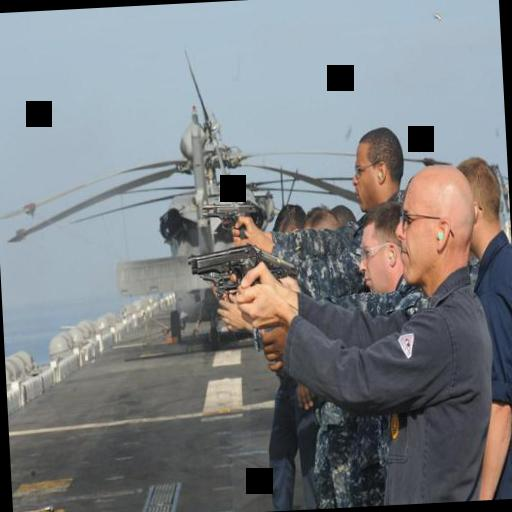Handgun: (186, 240, 262, 294), (199, 193, 260, 237), (254, 238, 300, 288)
